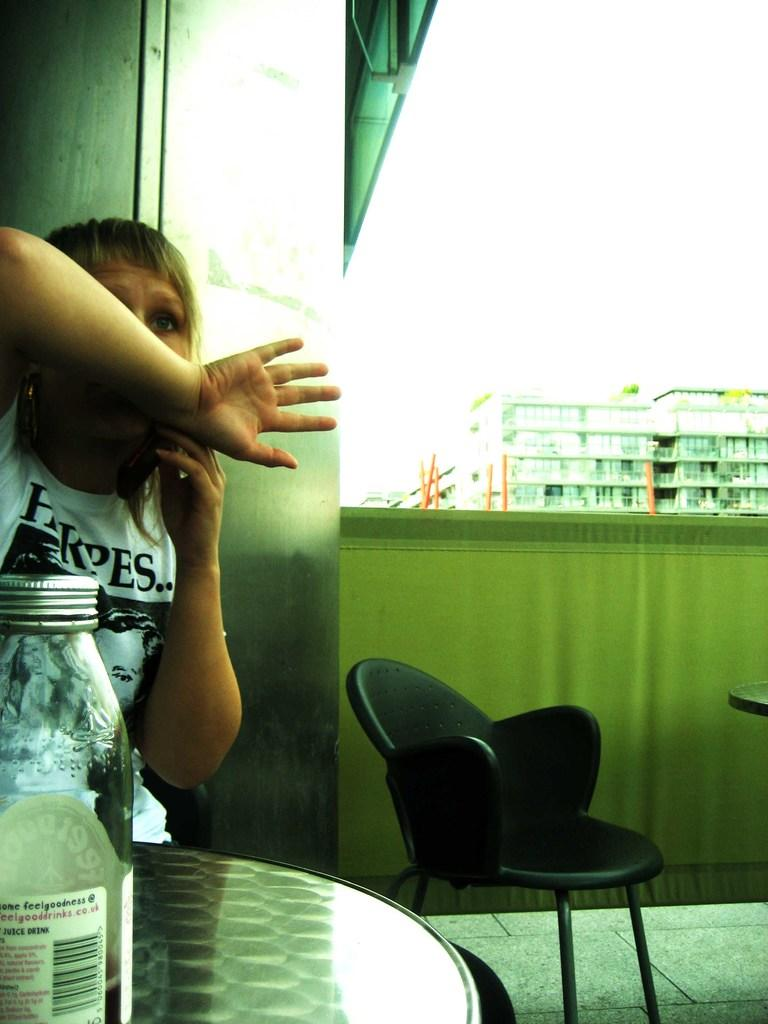Chair: (344, 660, 679, 1010)
